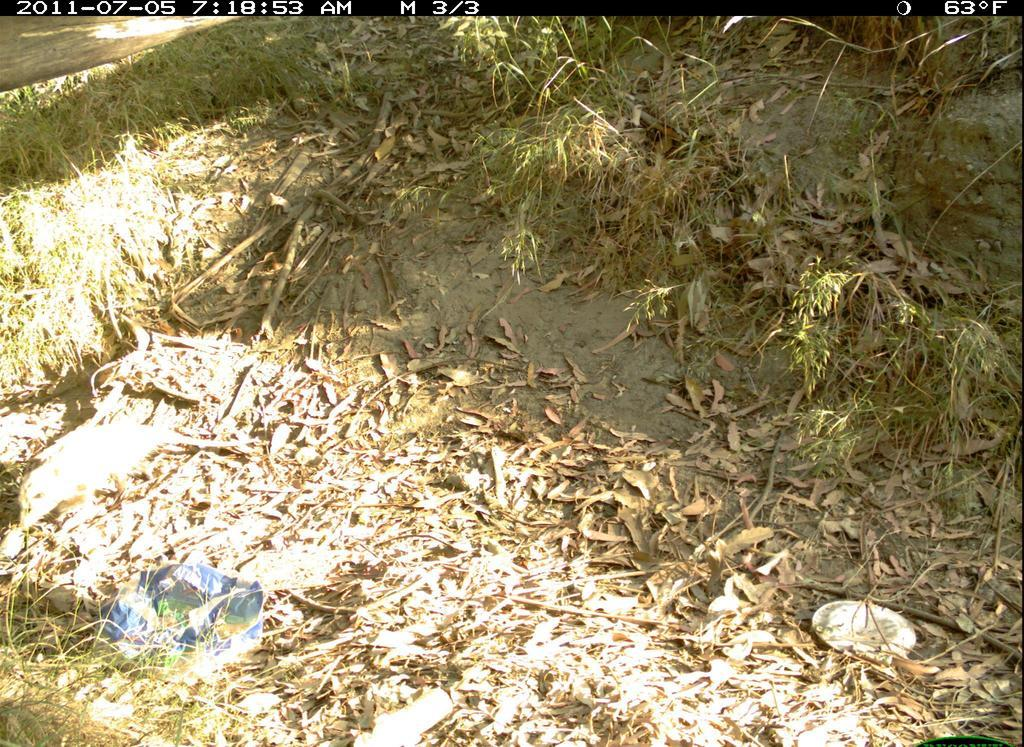opossum: (4, 398, 275, 545)
